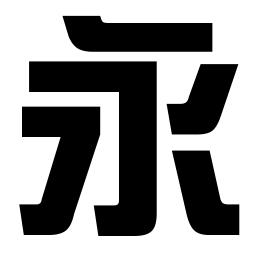D: (61, 13, 214, 53)
HSZ: (107, 59, 159, 101)
Hs: (26, 59, 86, 94)
Ne: (207, 198, 243, 238)
PNc: (164, 102, 218, 168)
PZe: (17, 201, 58, 237)
Ps: (192, 62, 240, 87)
SG: (92, 197, 160, 238)
Sm: (117, 144, 159, 185)
TPZ: (51, 104, 103, 152)
Ts: (20, 104, 42, 141)
